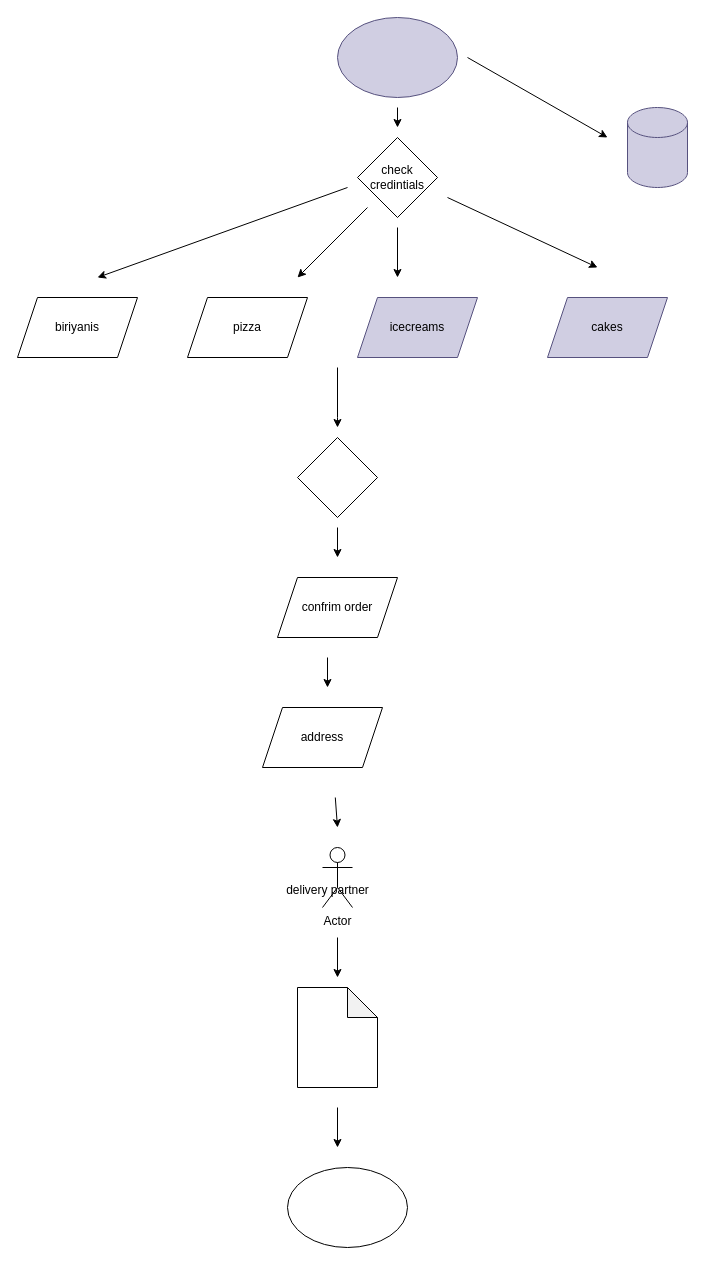
This 705x1265 diagram has some shape labels left out. Each missing label, with the centre of its shape:
"click any item" belongs at (337,477).
"feedback" belongs at (337,1037).
"if new user llogin" belongs at (657,147).
"login" belongs at (397,57).
